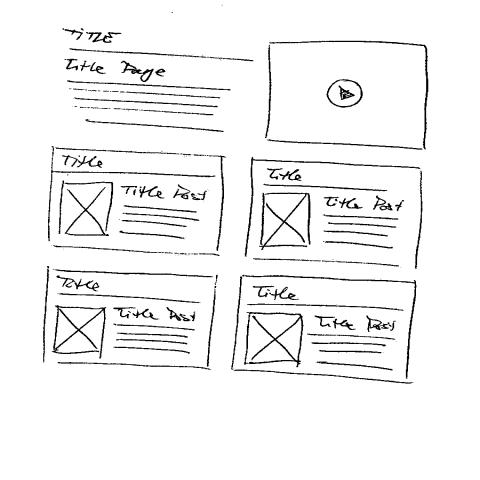Heading: (60, 25, 127, 46), (252, 283, 300, 304), (63, 55, 110, 76), (55, 274, 106, 293), (315, 313, 360, 333), (61, 152, 106, 171), (112, 305, 158, 322), (265, 166, 304, 182), (324, 194, 361, 210)
Image: (242, 310, 306, 369), (56, 178, 116, 239), (259, 190, 314, 251), (52, 304, 106, 358)
Paragraph: (63, 79, 232, 134), (306, 331, 398, 373), (111, 320, 196, 358), (320, 211, 400, 251)
